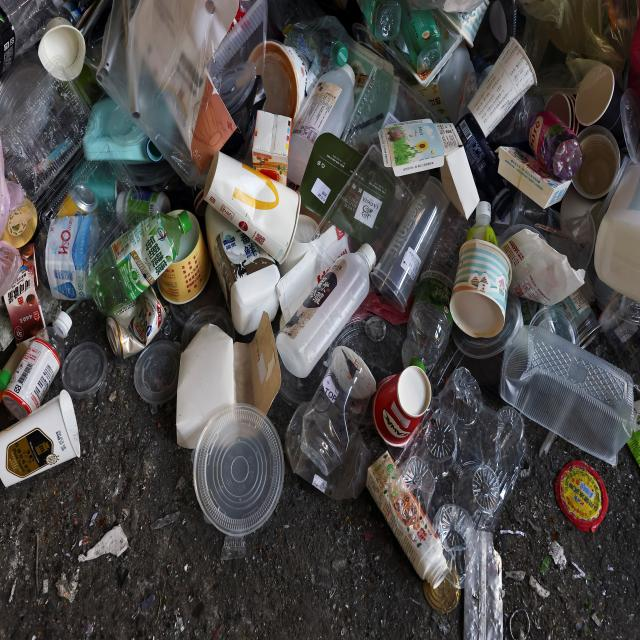chai_nhua: (88, 212, 183, 314), (287, 62, 355, 184), (529, 109, 583, 180)
giay: (176, 324, 236, 449), (233, 311, 281, 414), (373, 365, 432, 447)
hop_nhua: (276, 242, 376, 377), (371, 176, 450, 311), (403, 207, 469, 368)
kim_loai: (105, 287, 165, 358), (556, 461, 610, 533), (423, 579, 461, 614), (162, 383, 164, 385)
ly_hop_giay: (203, 150, 300, 262), (379, 118, 480, 218), (469, 36, 538, 136), (450, 238, 513, 337), (157, 232, 211, 304), (37, 17, 85, 80), (190, 258, 191, 260)
nhom: (465, 531, 504, 640)
nhua: (396, 364, 527, 588), (501, 325, 635, 464), (285, 345, 376, 498), (193, 403, 284, 537), (0, 69, 90, 200), (133, 340, 180, 405)
